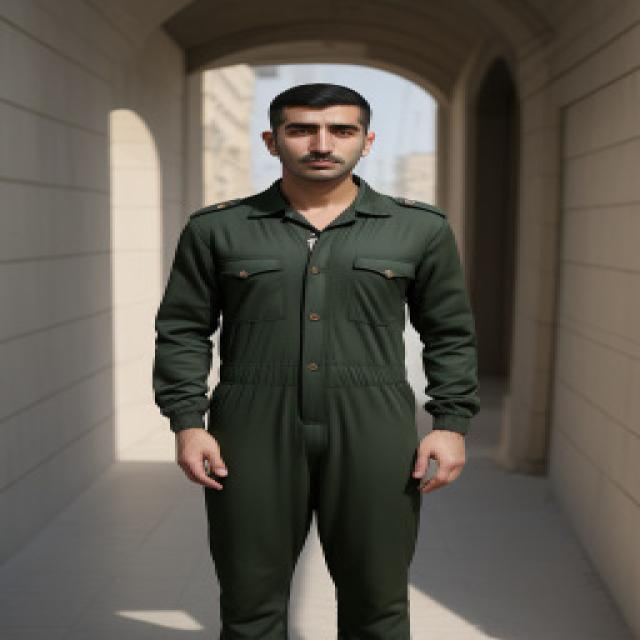Ai human 2: (139, 71, 505, 640)
